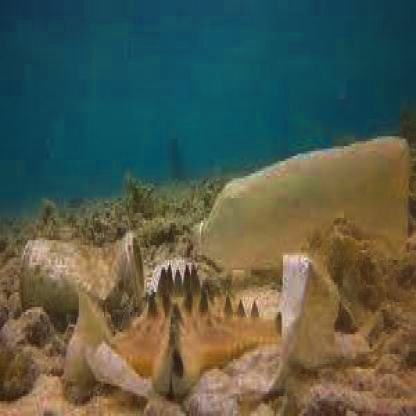can: (14, 220, 150, 312)
pbottle: (183, 124, 416, 285)
